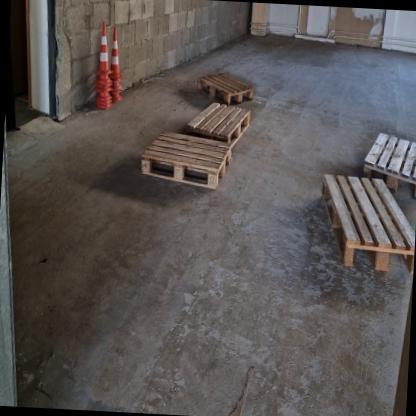BoxFace: (319, 172, 415, 277), (140, 127, 232, 192), (361, 128, 416, 205), (187, 98, 252, 150), (194, 69, 253, 107)
